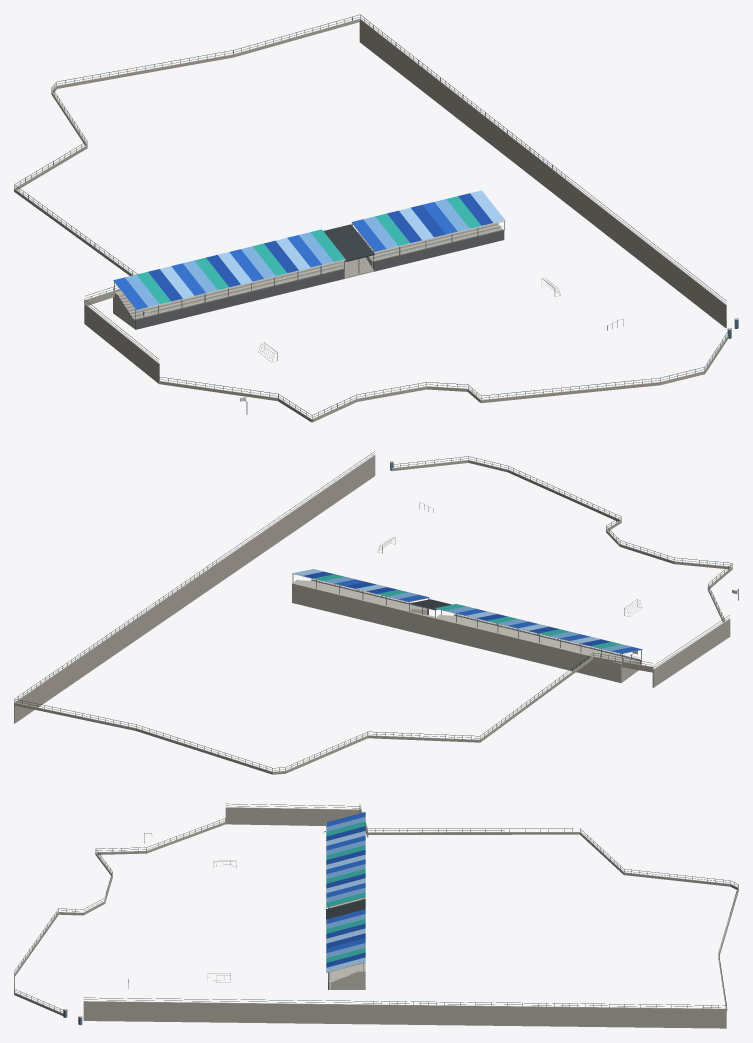
3 views of the same model, one above another, from view 1: azimuth 30°, elevation 25°; view 2: azimuth 150°, elevation 25°; view 3: azimuth 270°, elevation 25° (orthographic). The views are drawn at different scales.
Visible parts, largest first — view 1: site-wall-concrete, site-stand-concrete, site-stand-wall-dark, site-fence, site-stand-roof-3, site-stand-roof-0, site-stand-roof-1, site-stand-roof-2, site-stand-roof-4, site-stand-roof-dark; view 2: site-wall-concrete, site-stand-concrete, site-fence, site-stand-roof-3, site-stand-roof-0, site-stand-roof-1, site-stand-roof-2, site-stand-roof-4, site-stand-wall-dark; view 3: site-wall-concrete, site-fence, site-stand-roof-3, site-stand-roof-1, site-stand-roof-2, site-stand-roof-0, site-stand-roof-4, site-stand-concrete, site-stand-roof-dark.
Boxes of the visible parts, x1,y1,x2,y2 form: site-wall-concrete: [14, 18, 728, 422]; site-stand-concrete: [113, 223, 502, 328]; site-stand-wall-dark: [134, 229, 504, 329]; site-fence: [14, 14, 727, 419]; site-stand-roof-3: [148, 193, 492, 301]; site-stand-roof-0: [113, 202, 457, 309]; site-stand-roof-1: [125, 199, 469, 306]; site-stand-roof-2: [136, 196, 481, 304]; site-stand-roof-4: [160, 190, 504, 298]; site-stand-roof-dark: [323, 224, 374, 260]; site-wall-concrete: [14, 455, 732, 774]; site-stand-concrete: [292, 580, 640, 683]; site-fence: [14, 451, 732, 771]; site-stand-roof-3: [303, 571, 610, 645]; site-stand-roof-0: [335, 579, 641, 653]; site-stand-roof-1: [324, 577, 631, 650]; site-stand-roof-2: [313, 574, 620, 648]; site-stand-roof-4: [292, 569, 600, 643]; site-stand-wall-dark: [311, 579, 641, 664]; site-wall-concrete: [14, 807, 738, 1028]; site-fence: [14, 803, 738, 1011]; site-stand-roof-3: [326, 826, 365, 967]; site-stand-roof-1: [326, 816, 365, 957]; site-stand-roof-2: [326, 821, 365, 962]; site-stand-roof-0: [326, 812, 365, 953]; site-stand-roof-4: [326, 831, 365, 972]; site-stand-concrete: [330, 897, 365, 989]; site-stand-roof-dark: [326, 899, 365, 919].
Size of the model in its own units: 154 by 11.06 by 230.
